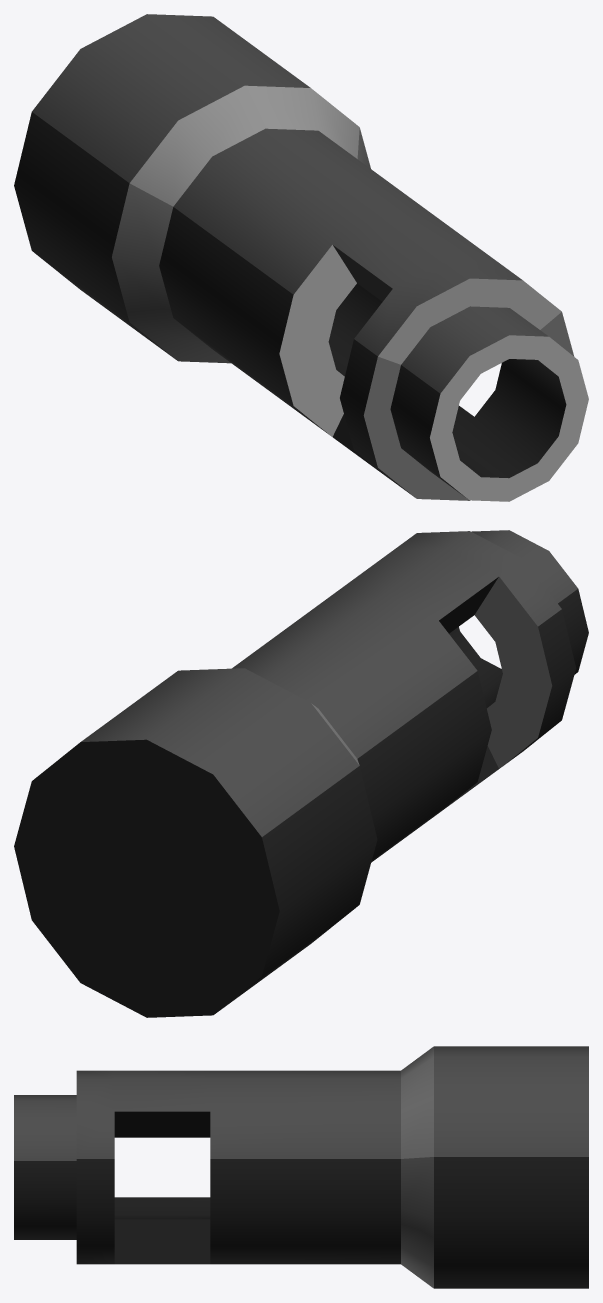
File: AK74Compensator.fbx
3 views of the same model, one above another, from view 1: azimuth 30°, elevation 25°; view 2: azimuth 150°, elevation 25°; view 3: azimuth 270°, elevation 25° (orthographic). The views are drawn at different scales.
Visible parts, largest first — view 1: AK74Compensator; view 2: AK74Compensator; view 3: AK74Compensator.
Boxes of the visible parts, x1,y1,x2,y2 form: AK74Compensator: [14, 14, 588, 501]; AK74Compensator: [14, 530, 588, 1017]; AK74Compensator: [14, 1046, 588, 1288].
Size of the model in its own units: 10.08 by 10.08 by 23.82.
